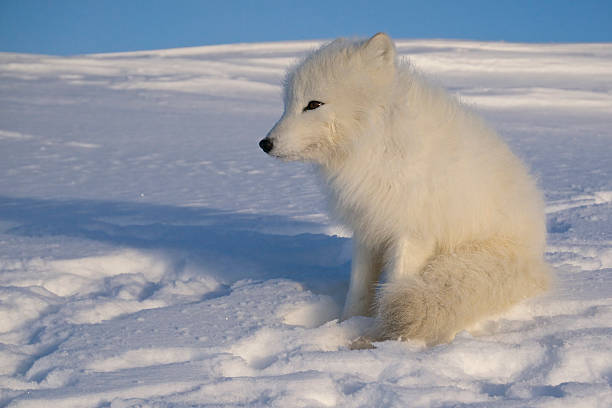arcticfox: (257, 36, 360, 206)
